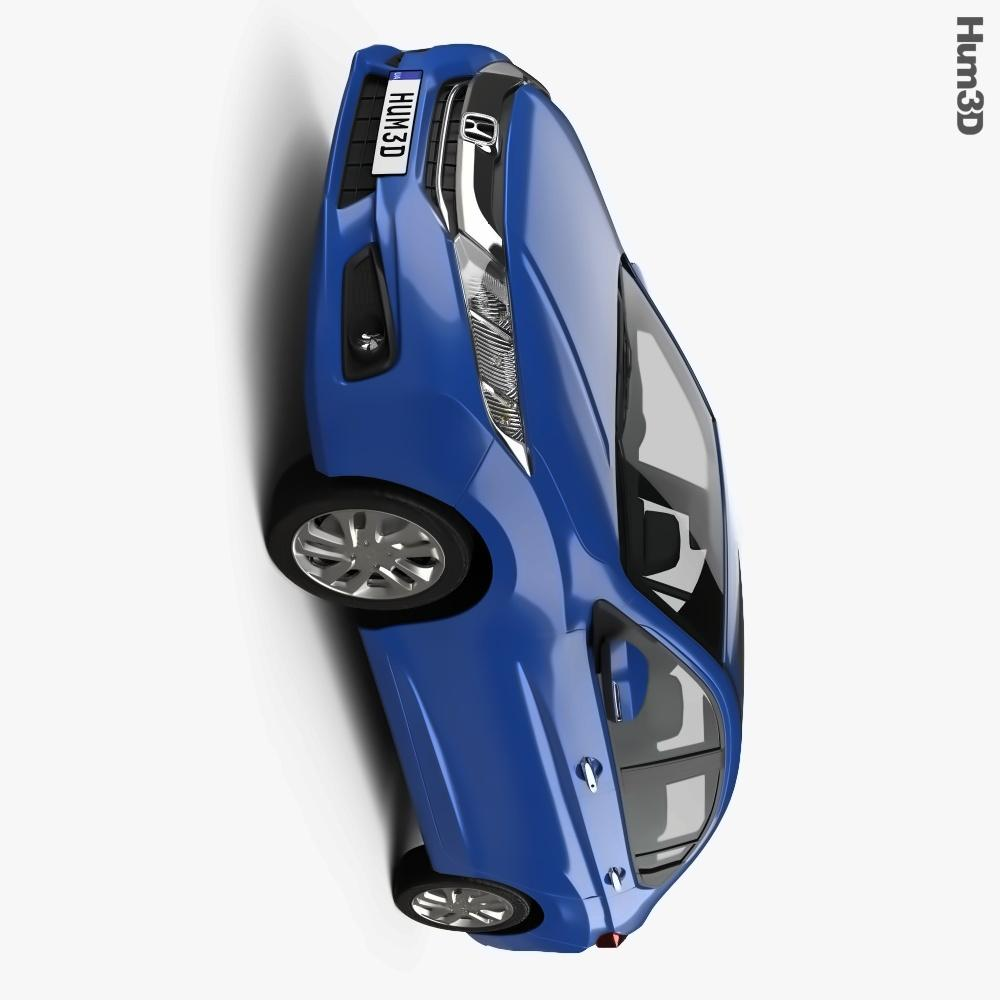Car hood: (495, 80, 633, 541)
Fender - -F-L-: (361, 437, 602, 654)
Fender - -R-L-: (458, 860, 692, 954)
Front bumper: (302, 37, 509, 505)
Headlight - -L-: (452, 230, 534, 480)
Headlight - -R-: (482, 57, 541, 91)
Passenger-s door - -F-L-: (362, 600, 744, 796)
Passenger-s door - -R-L-: (389, 737, 764, 908)
Rear light - -L-: (589, 925, 627, 953)
Side bumper - -L-: (342, 612, 489, 889)
Side mirror - -L-: (587, 605, 651, 729)
